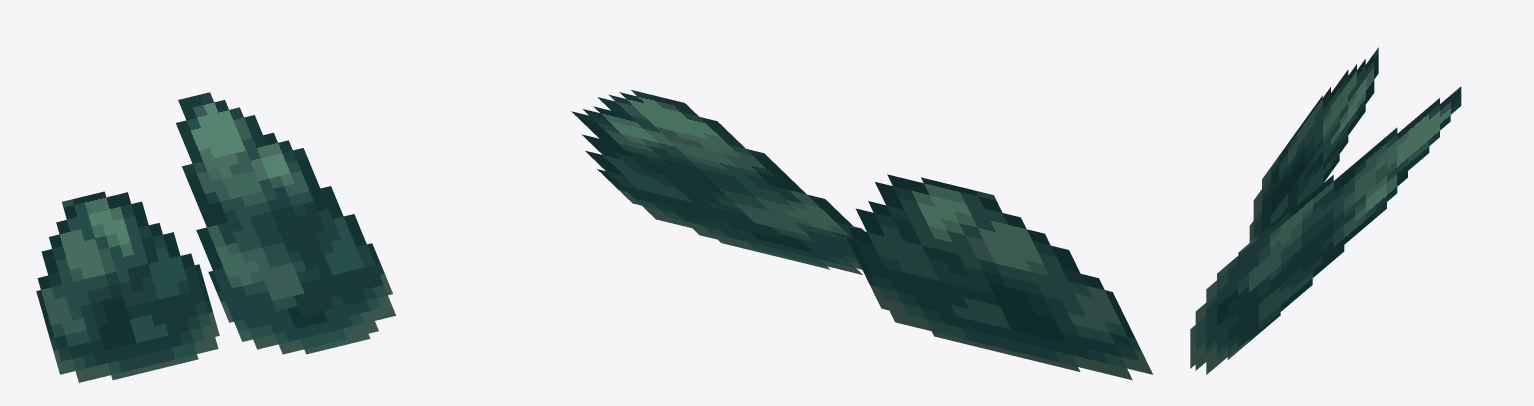
The picture shows the model from 3 angles, left to right: view 1: azimuth 30°, elevation 25°; view 2: azimuth 150°, elevation 25°; view 3: azimuth 270°, elevation 25°; orthographic projection. The views are drawn at different scales.
Bounding box in the file's own units: 2 × 1.33 × 1.41.
Materials: 1 (1 with a texture image).
